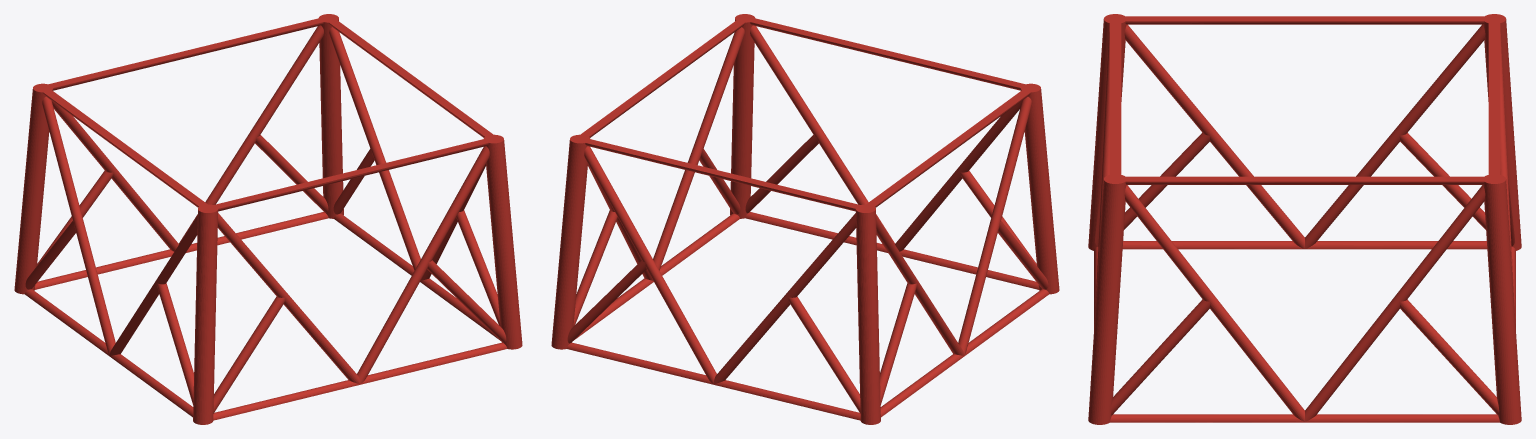
3 views of the same model, side by side, from view 1: azimuth 30°, elevation 25°; view 2: azimuth 150°, elevation 25°; view 3: azimuth 270°, elevation 25° (orthographic). The views are drawn at different scales.
Parts seen in each view (by area): view 1: H13-H14; view 2: H13-H14; view 3: H13-H14.
Part boxes in pixels (x1=…): H13-H14: x1=14, y1=14, x2=522, y2=424; H13-H14: x1=551, y1=14, x2=1059, y2=424; H13-H14: x1=1088, y1=14, x2=1521, y2=424.
Size of the model in its own units: 18.6 by 11.1 by 18.6.
